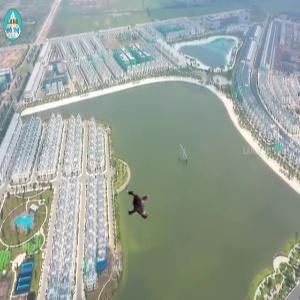drone: (117, 179, 169, 231)
